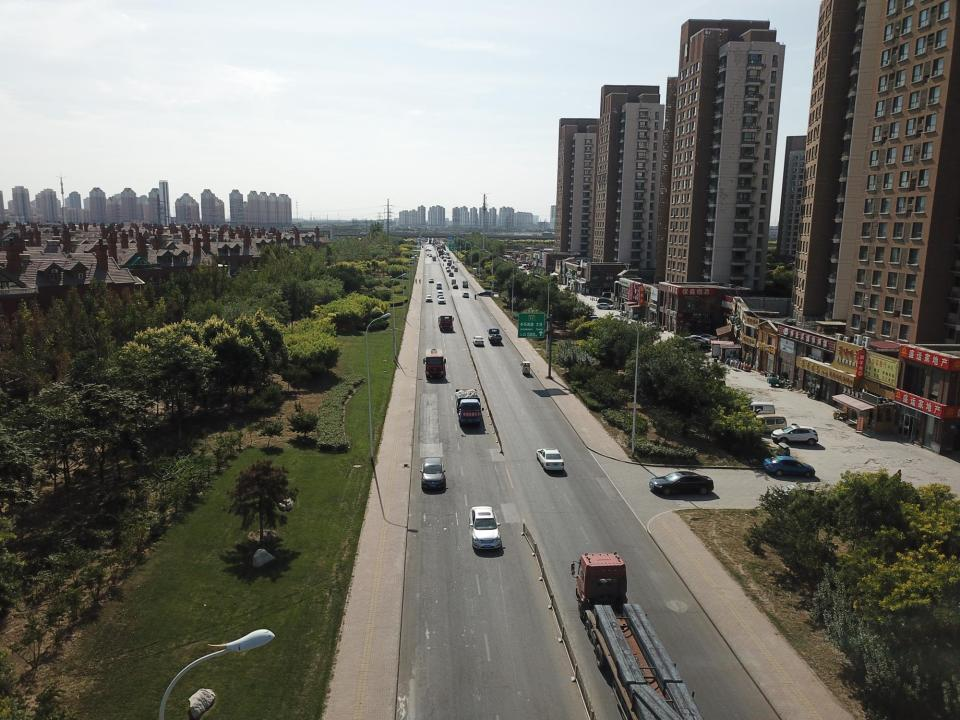car: (647, 472, 722, 500), (761, 454, 823, 484), (466, 505, 502, 552), (770, 421, 824, 446), (418, 456, 448, 493), (536, 444, 566, 478), (745, 412, 792, 432), (735, 397, 788, 414), (676, 334, 710, 351), (695, 331, 718, 342), (470, 336, 485, 347), (646, 320, 661, 330), (595, 302, 612, 310), (477, 290, 498, 296), (437, 296, 447, 304), (460, 290, 470, 298), (601, 291, 614, 297), (436, 282, 444, 290), (424, 295, 433, 302), (427, 277, 435, 283), (452, 284, 460, 289), (424, 248, 432, 252), (445, 264, 450, 270), (520, 266, 526, 270), (448, 272, 454, 276), (454, 266, 458, 272), (446, 268, 452, 272), (451, 264, 455, 270), (426, 252, 430, 256), (428, 254, 432, 258)
truck: (569, 548, 722, 720), (450, 384, 490, 436), (423, 346, 451, 385), (438, 314, 456, 334), (487, 326, 504, 344), (431, 255, 437, 262), (447, 258, 453, 265), (463, 280, 468, 288), (445, 262, 451, 266), (518, 261, 522, 265)
van: (450, 278, 457, 284)
